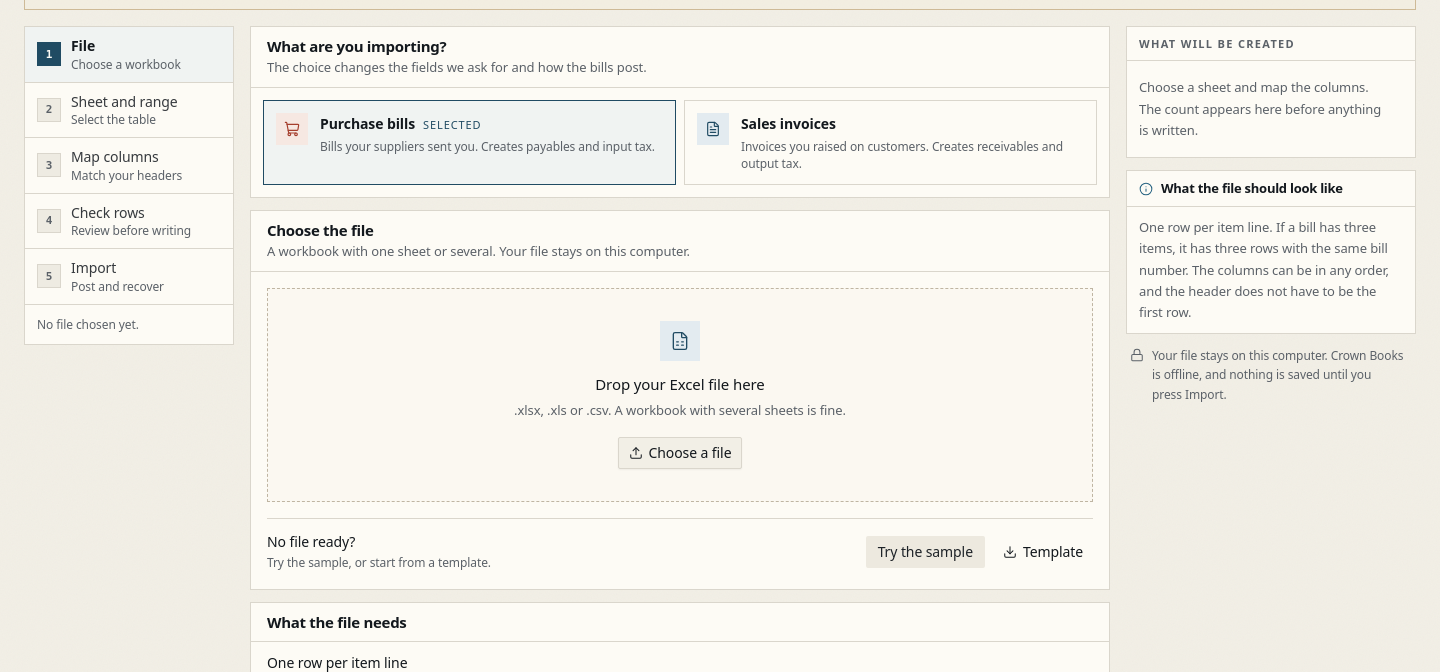
Scenario: Excel importer page › blocks on an unresolved supplier and clears when the user chooses create
The image size is (1440, 672).
Click the button "Try the sample": (925, 552) left=866, top=536, right=985, bottom=568
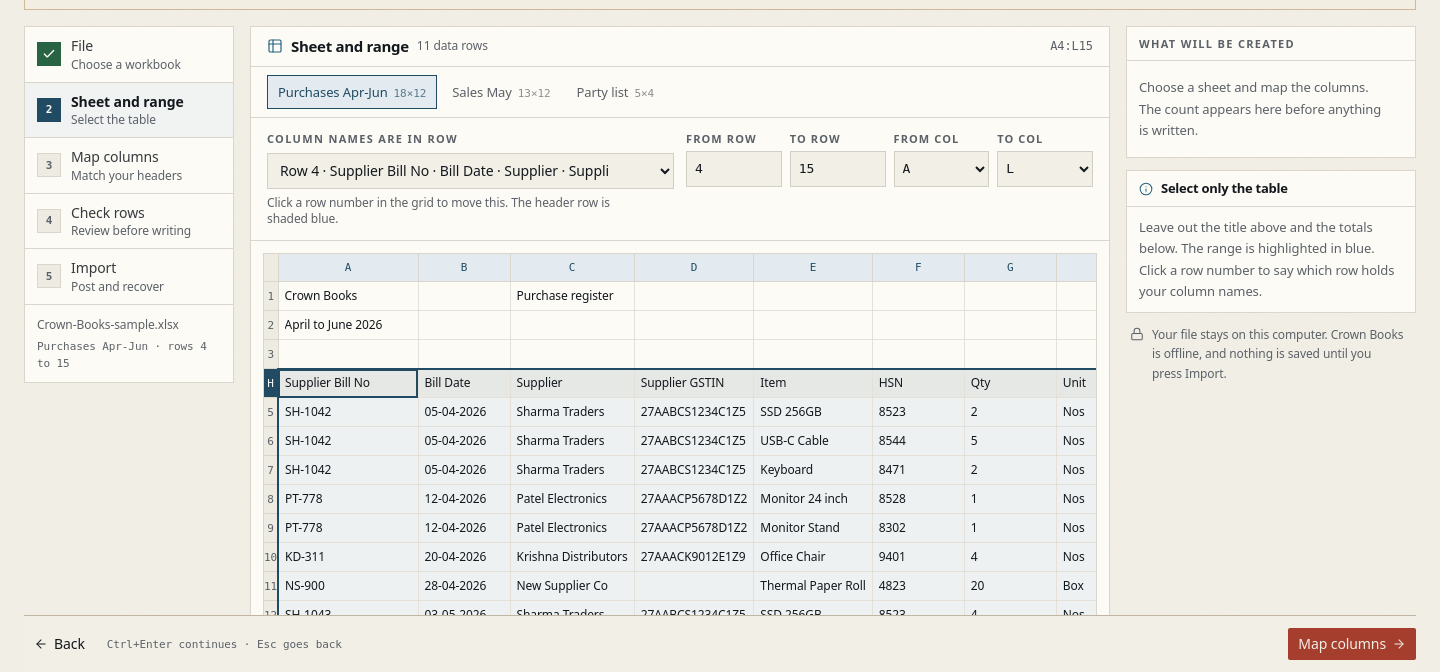
Result: the heading "Sheet and range" is shown at left=291, top=38, right=409, bottom=56
Click the button "Map columns": (1352, 644) left=1288, top=628, right=1416, bottom=660
(page scrolled)
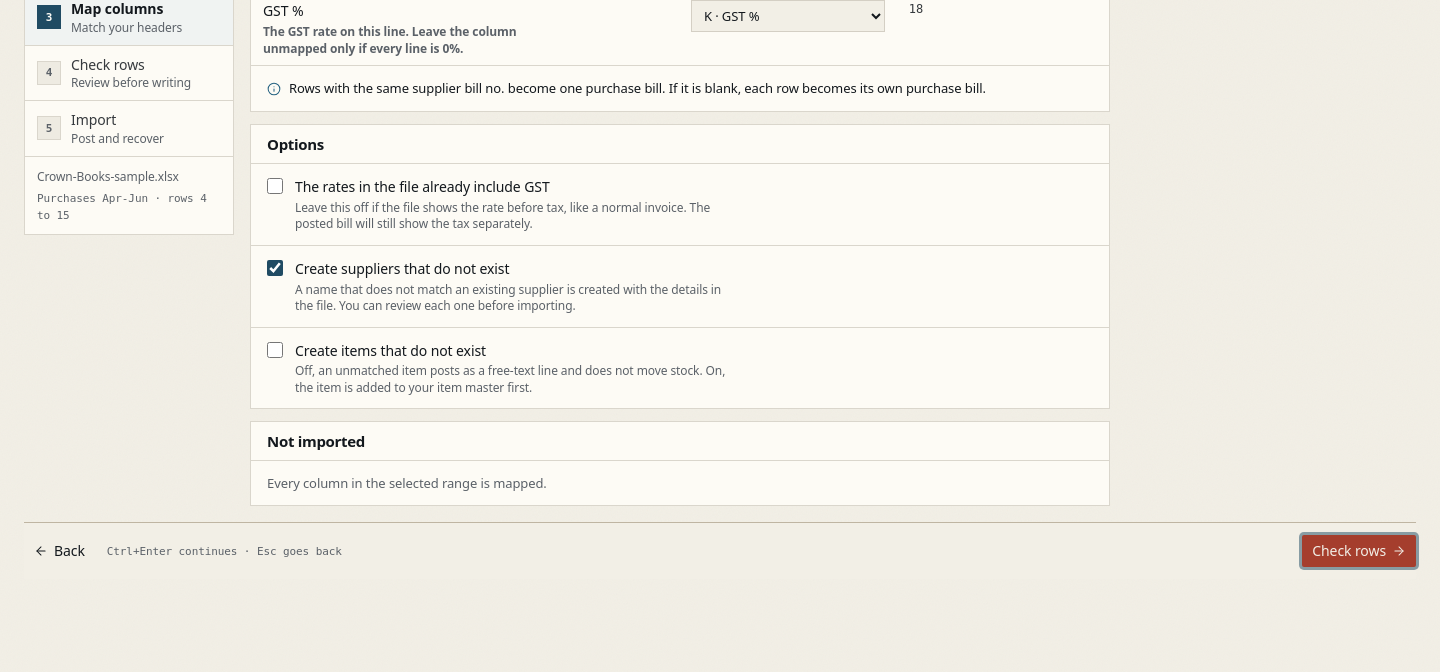
Click the checkbox labelled "Create suppliers that do not exist": (275, 268) left=267, top=260, right=283, bottom=276
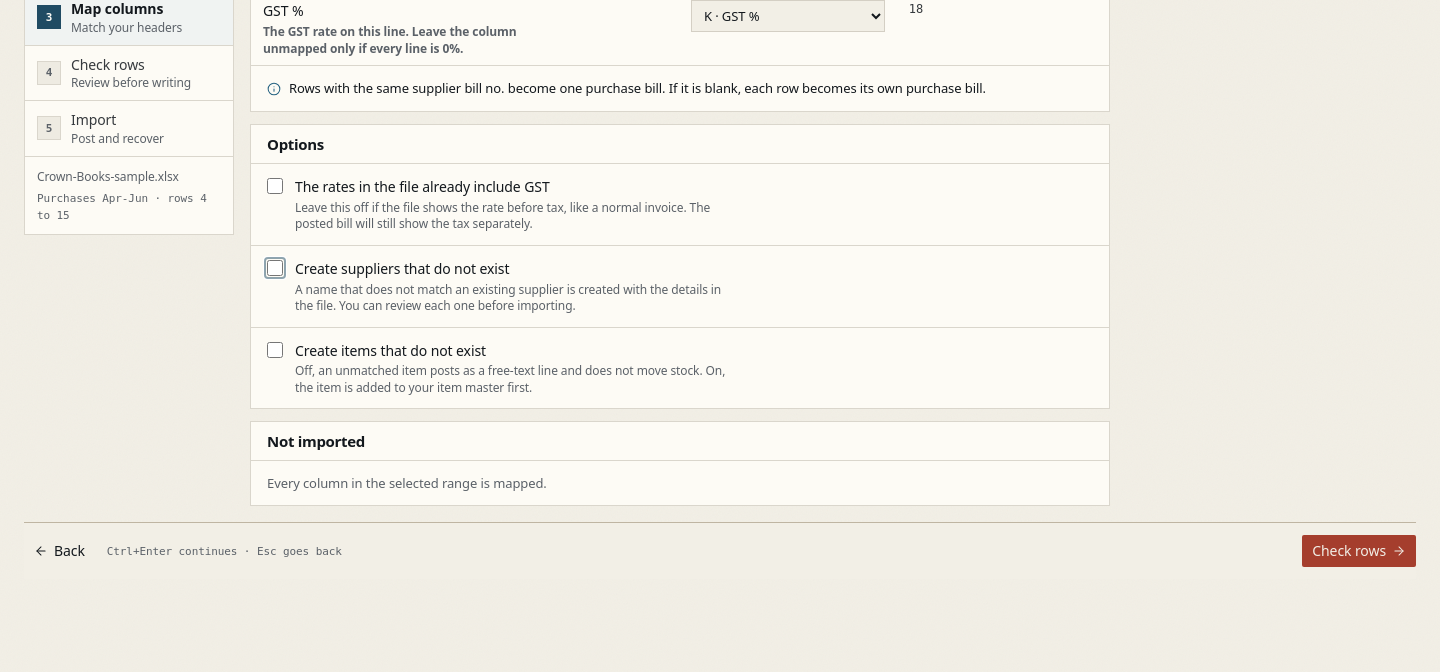
Click the button "Check rows": (1359, 551) left=1302, top=535, right=1416, bottom=567
(page scrolled)
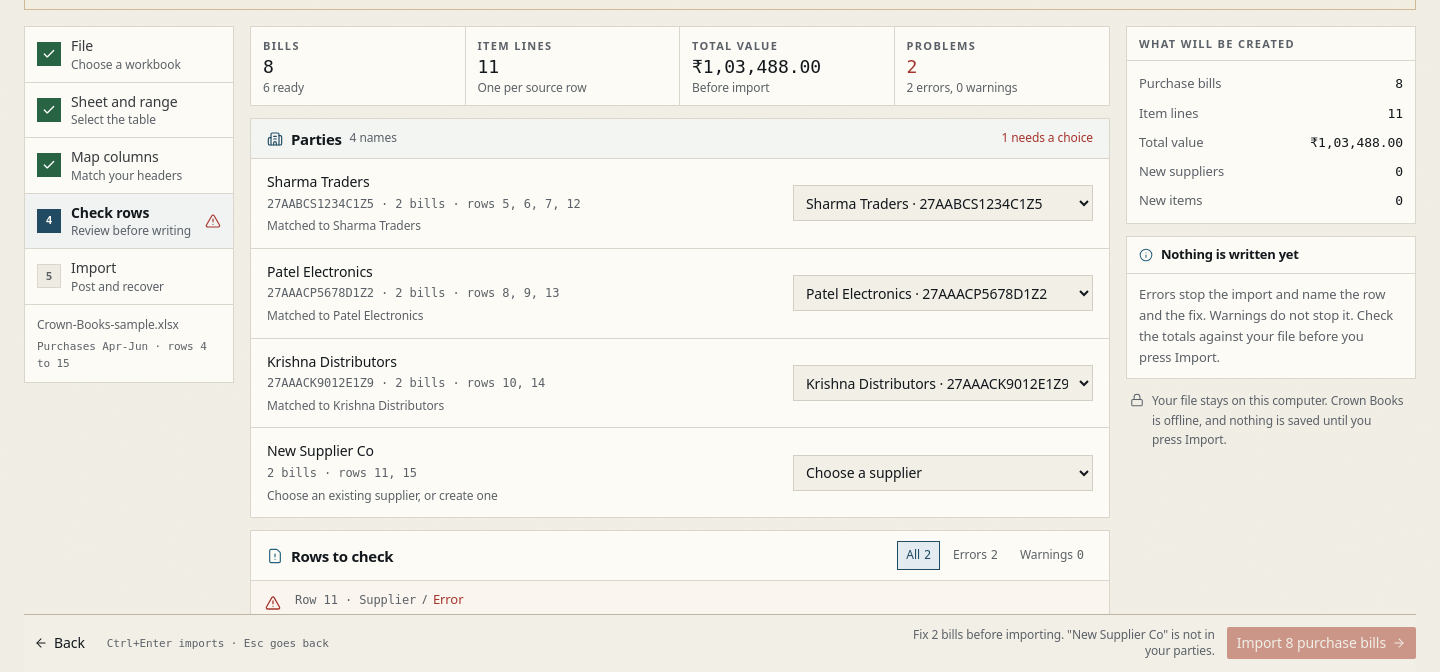
Result: the button "Import 8 purchase bills" is disabled at left=1227, top=628, right=1416, bottom=660
Result: the text "\"New Supplier Co\" is not in your parties." is shown at left=295, top=611, right=553, bottom=630
Result: the dropdown named "Match New Supplier Co to a supplier" shows "Choose a supplier"
Select "Create a new supplier" in the dropdown named "Match New Supplier Co to a supplier": (943, 473) left=793, top=455, right=1093, bottom=491
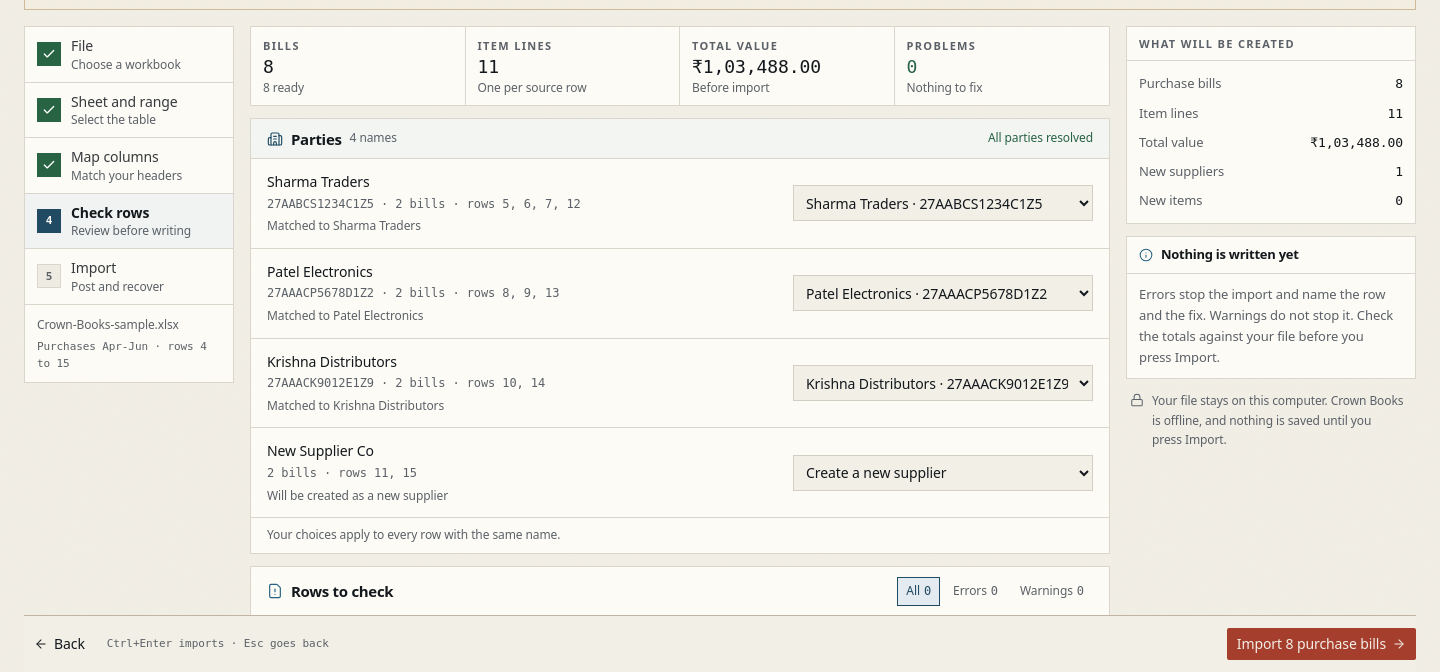
Result: the button "Import 8 purchase bills" is enabled at left=1227, top=628, right=1416, bottom=660
